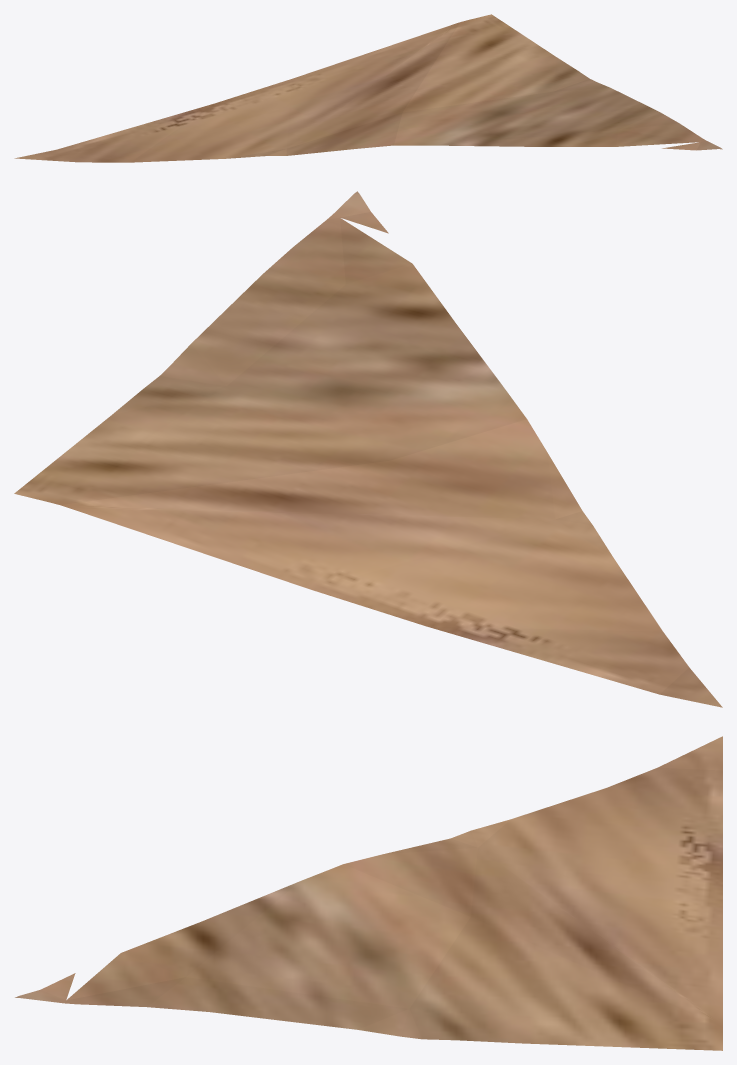
3 views of the same model, one above another, from view 1: azimuth 30°, elevation 25°; view 2: azimuth 150°, elevation 25°; view 3: azimuth 270°, elevation 25° (orthographic). The views are drawn at different scales.
Size of the model in its own units: 1.18 by 0.1507 by 0.9935.
Materials: 1 (1 with a texture image).
